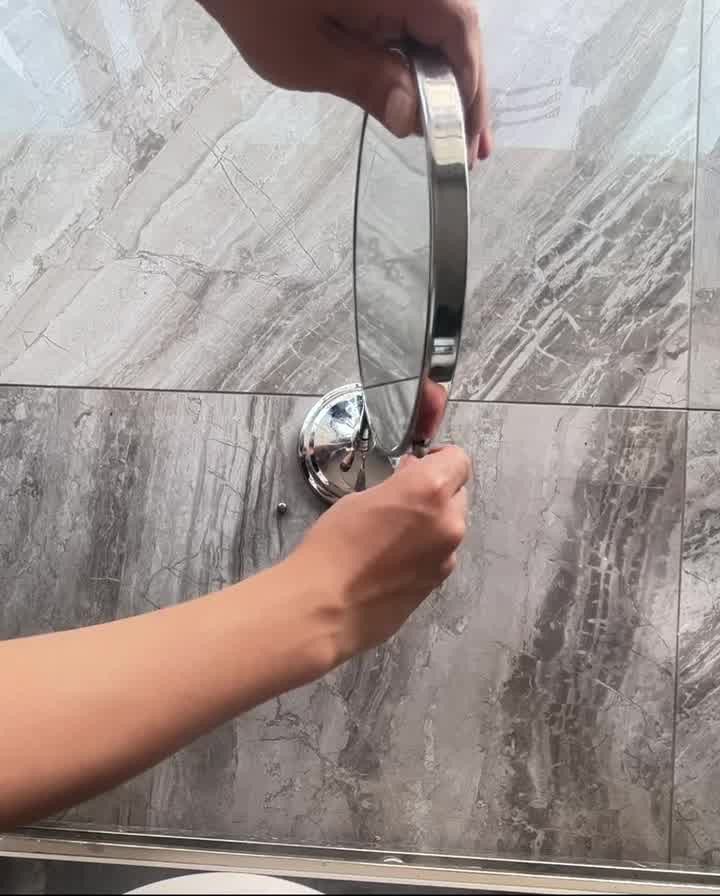base: (295, 384, 406, 513)
mirror: (347, 47, 474, 452)
screw: (267, 492, 296, 519)
